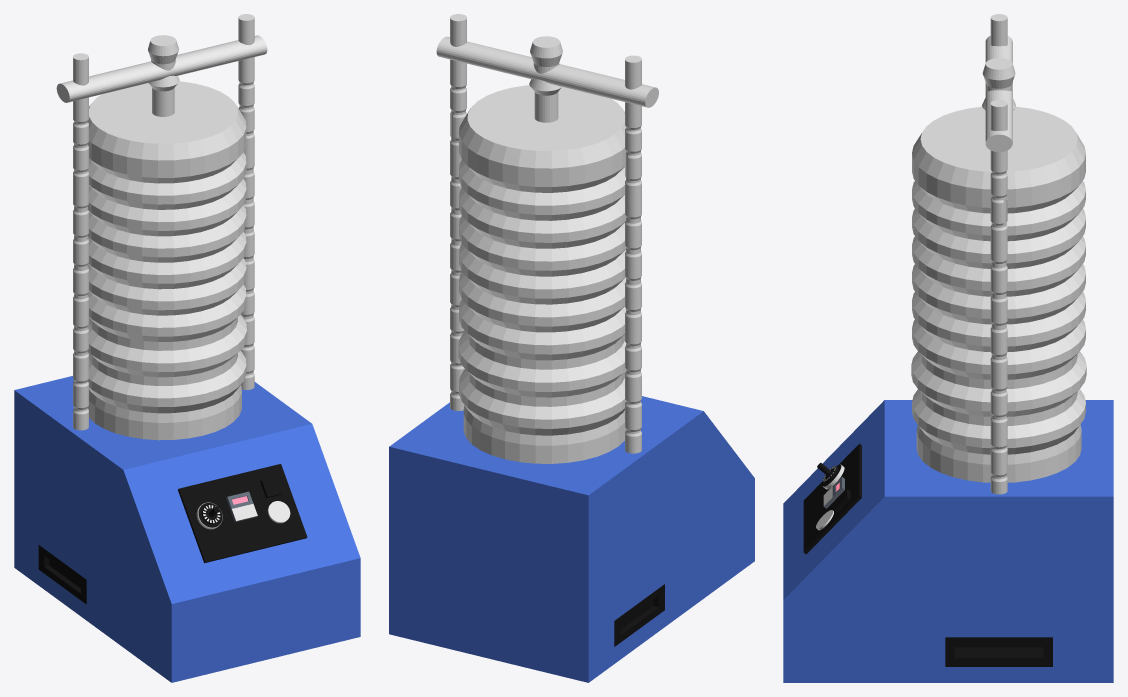
File: вертель для шаурмы.fbx
3 views of the same model, side by side, from view 1: azimuth 30°, elevation 25°; view 2: azimuth 150°, elevation 25°; view 3: azimuth 270°, elevation 25° (orthographic). The views are drawn at different scales.
Parts seen in each view (by area): view 1: Cube, Cylinder, Cylinder.003, Cylinder.001, Cylinder.002, Cylinder.004; view 2: Cube, Cylinder, Cylinder.003, Cylinder.002, Cylinder.001; view 3: Cube, Cylinder, Cylinder.001, Cylinder.002, Cylinder.003.
Boxes of the visible parts, x1=… form: Cube: x1=14, y1=376, x2=360, y2=682; Cylinder: x1=88, y1=35, x2=246, y2=440; Cylinder.003: x1=73, y1=53, x2=88, y2=430; Cylinder.001: x1=238, y1=14, x2=254, y2=389; Cylinder.002: x1=56, y1=35, x2=267, y2=102; Cylinder.004: x1=196, y1=502, x2=222, y2=529; Cube: x1=389, y1=396, x2=754, y2=682; Cylinder: x1=458, y1=36, x2=625, y2=463; Cylinder.003: x1=625, y1=55, x2=641, y2=453; Cylinder.002: x1=436, y1=36, x2=658, y2=107; Cylinder.001: x1=450, y1=14, x2=466, y2=410; Cube: x1=783, y1=400, x2=1113, y2=682; Cylinder: x1=911, y1=58, x2=1086, y2=482; Cylinder.001: x1=990, y1=100, x2=1007, y2=494; Cylinder.002: x1=985, y1=35, x2=1012, y2=152; Cylinder.003: x1=990, y1=14, x2=1007, y2=46.
Size of the model in its own units: 209 by 554 by 289.
